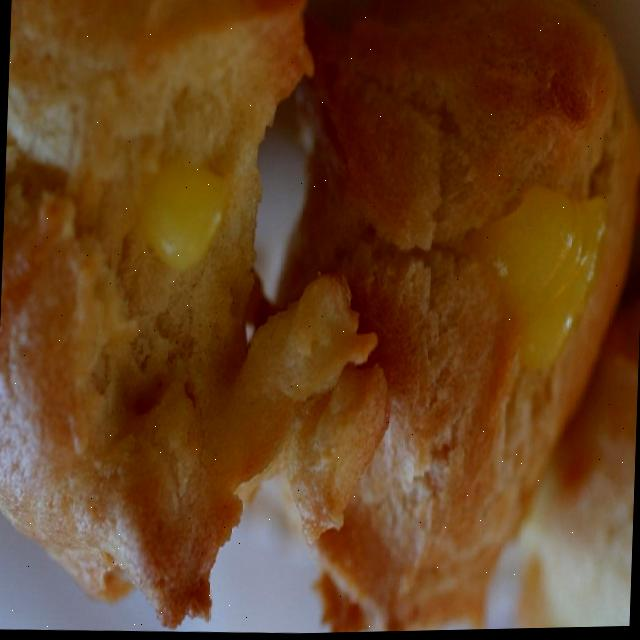炸货点心: (11, 0, 640, 640)
蛋糕甜品: (11, 0, 640, 640)
